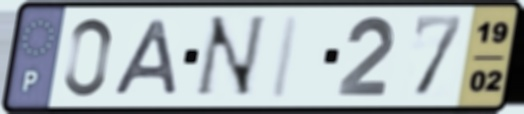0: (62, 16, 114, 100)
2: (333, 13, 400, 101)
7: (410, 12, 467, 101)
A: (109, 17, 181, 98)
I: (264, 12, 305, 102)
N: (188, 13, 270, 102)
